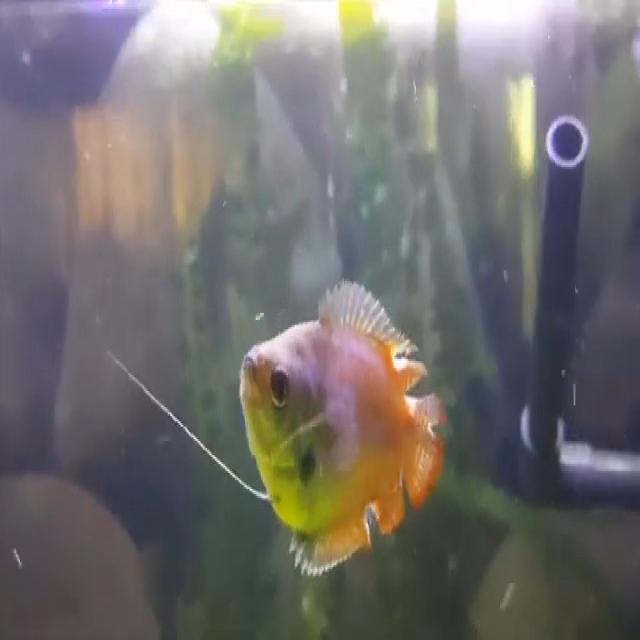fish: (237, 276, 453, 578)
